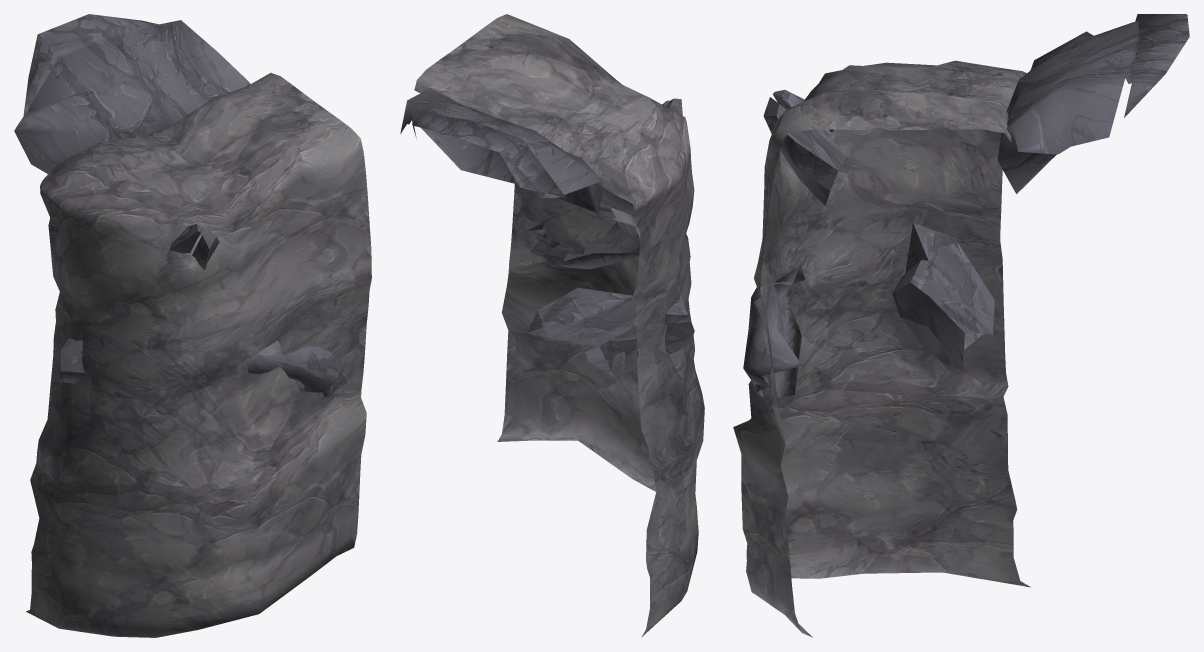
Rendered from GroundDeadStart2.fbx.
3 renders of one model, left to right at view 1: azimuth 30°, elevation 25°; view 2: azimuth 150°, elevation 25°; view 3: azimuth 270°, elevation 25°, orthographic. The views are drawn at different scales.
Visible parts, largest first — view 1: GroundDeadStart2; view 2: GroundDeadStart2; view 3: GroundDeadStart2.
Boxes of the visible parts, box(x1,y1,x2,y2) form: GroundDeadStart2: box(14, 14, 371, 637); GroundDeadStart2: box(400, 14, 704, 637); GroundDeadStart2: box(733, 14, 1189, 637).
Size of the model in its own units: 4.41 by 8.79 by 5.8.
3 materials, 3 textured.
